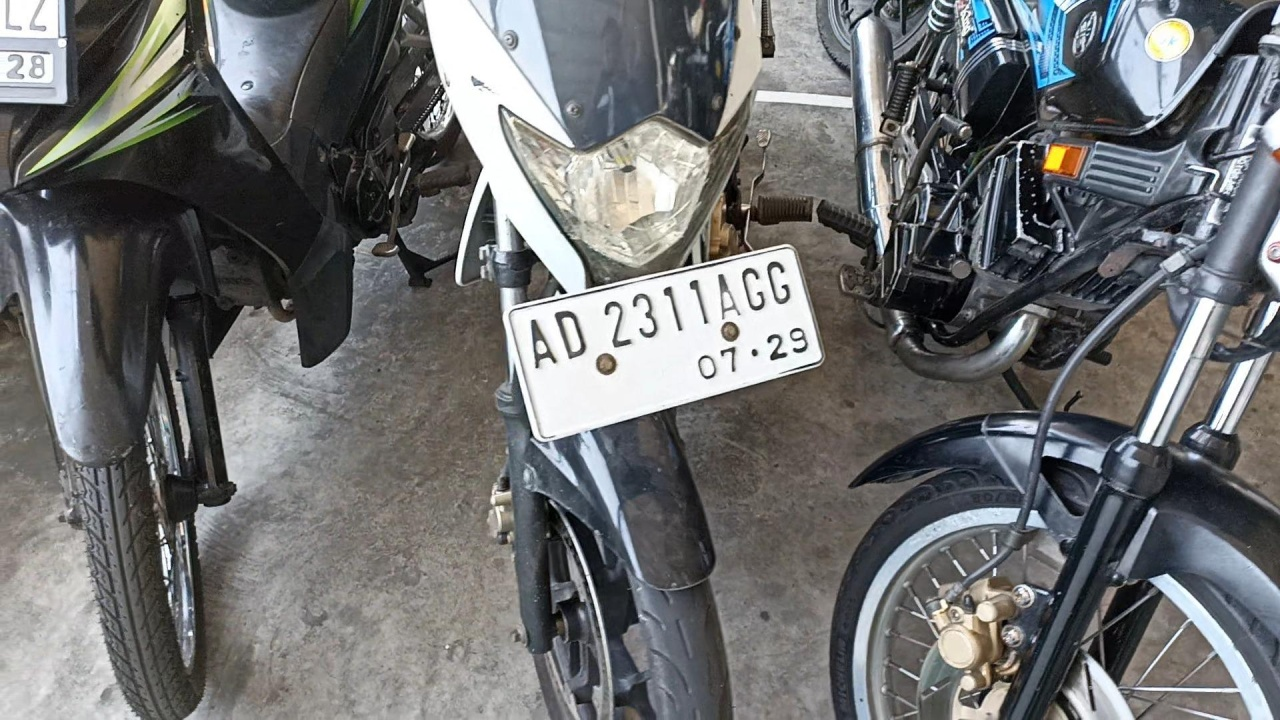plate: (502, 242, 827, 444)
